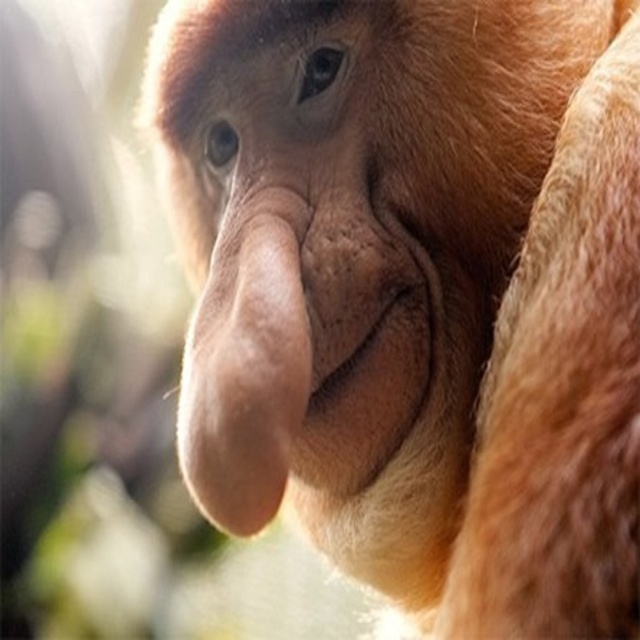Monkey: (119, 0, 640, 640)
